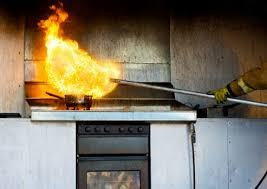fire: (34, 3, 122, 101)
